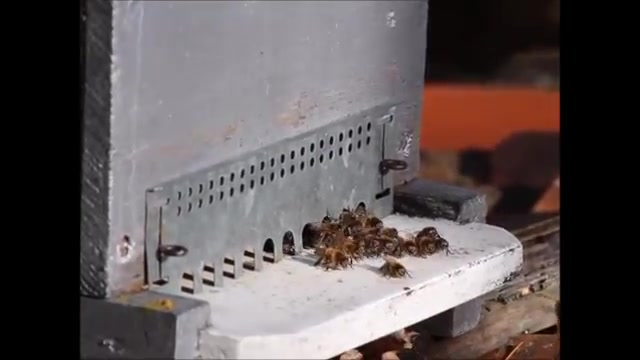bee: (316, 214, 371, 250), (373, 226, 417, 256), (418, 228, 454, 257), (322, 249, 356, 271), (381, 259, 411, 279)
